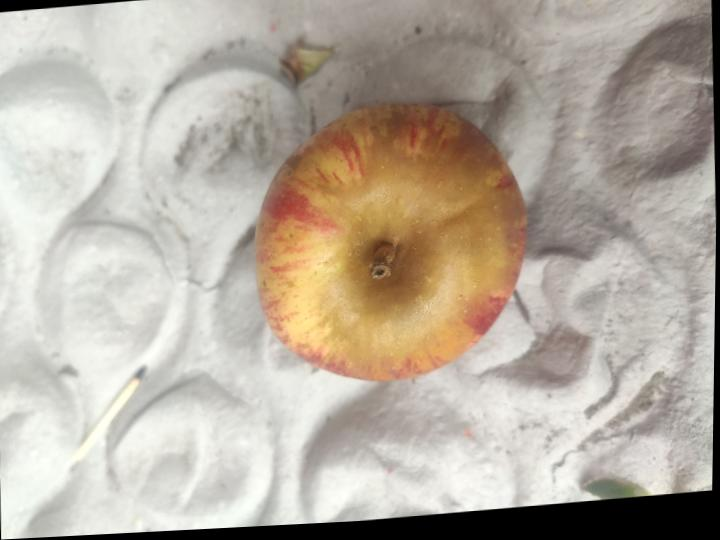apple: (256, 104, 526, 380)
bruise_discoloration: (319, 117, 524, 380)
